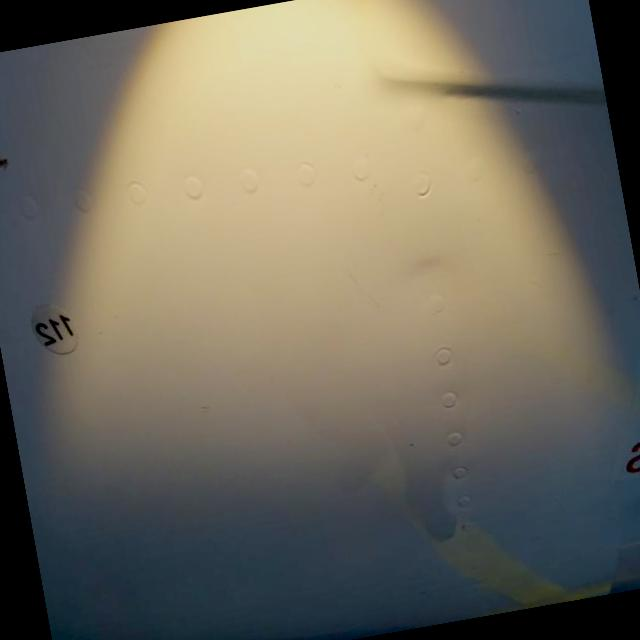dent: (387, 243, 475, 344)
